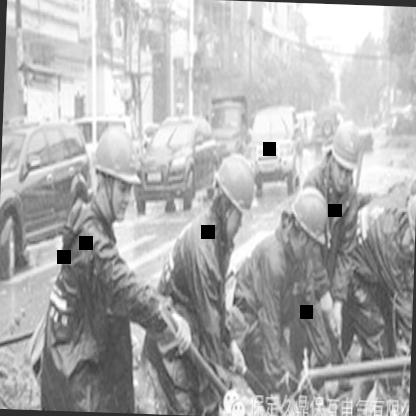helmet: (91, 122, 145, 223), (210, 149, 260, 237), (284, 180, 332, 264), (327, 115, 363, 200), (398, 190, 416, 250), (405, 170, 416, 221)
